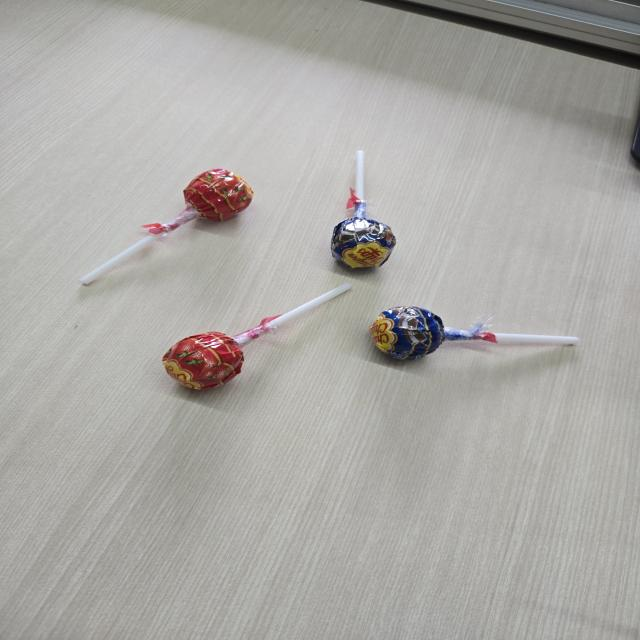lollipop: (161, 279, 358, 402), (77, 164, 261, 293), (369, 298, 581, 368), (329, 146, 400, 275)
